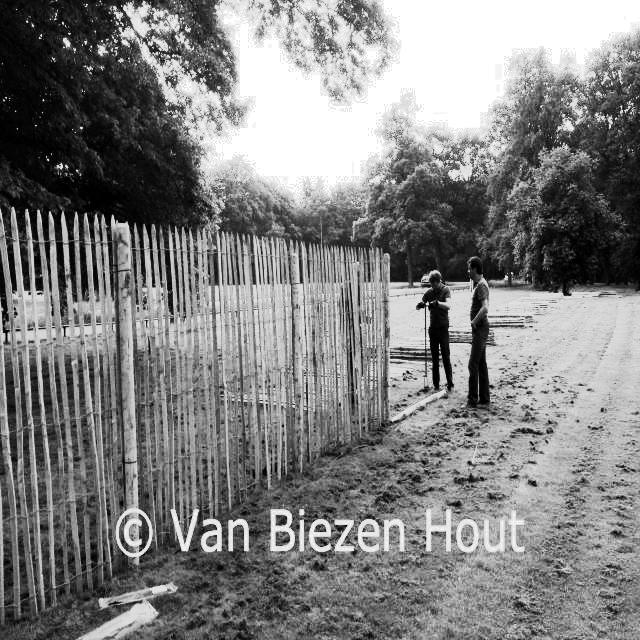fences: (10, 220, 389, 496)
